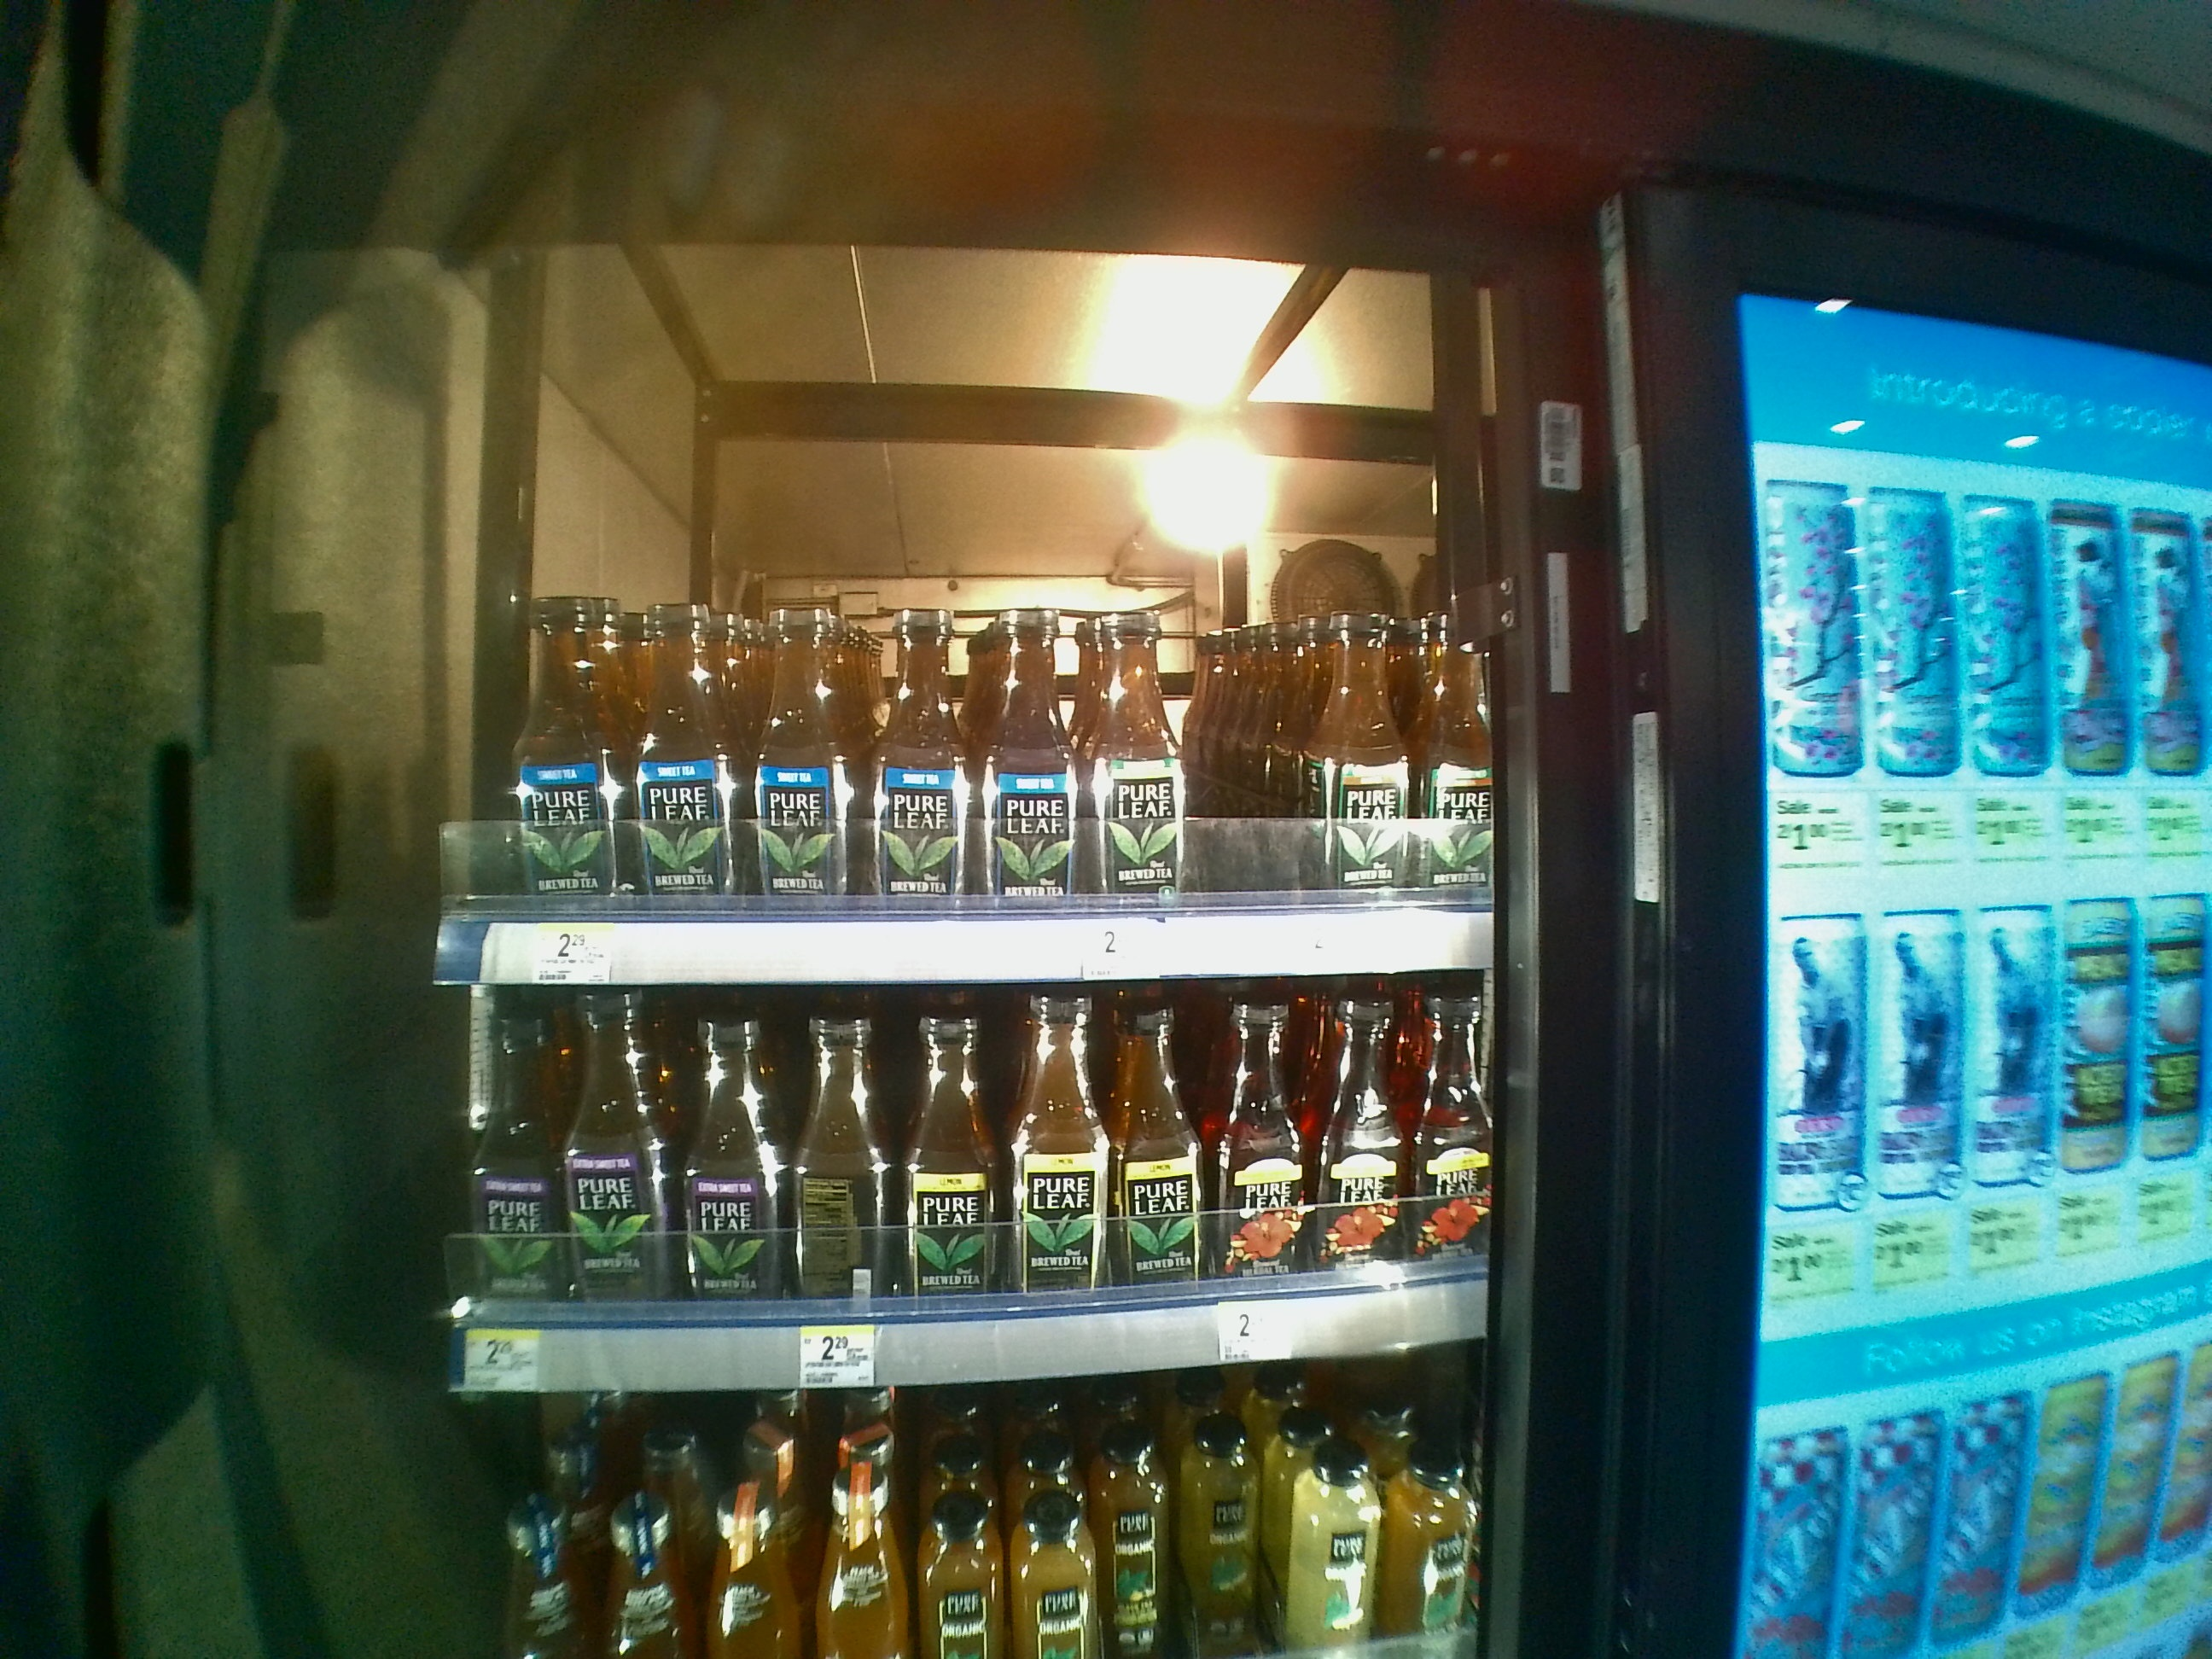shelf: (432, 284, 1496, 979), (435, 993, 1501, 1391)
